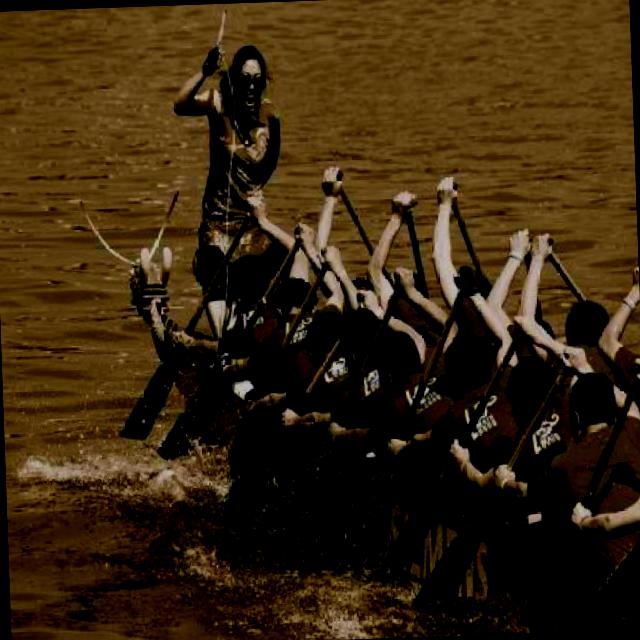Person: (168, 42, 286, 338), (487, 369, 640, 582), (380, 261, 521, 467), (444, 321, 593, 493), (319, 259, 461, 439), (272, 284, 428, 428), (242, 220, 348, 392), (232, 310, 353, 423), (427, 171, 487, 339), (590, 257, 640, 420), (565, 296, 619, 390)
